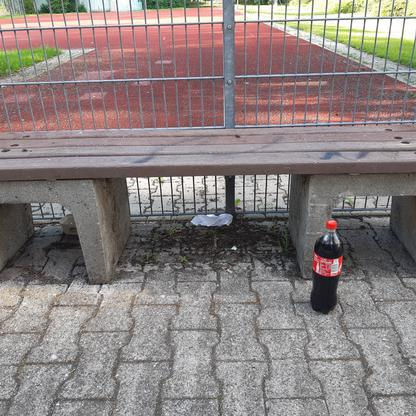coca-cola: (309, 219, 345, 316)
